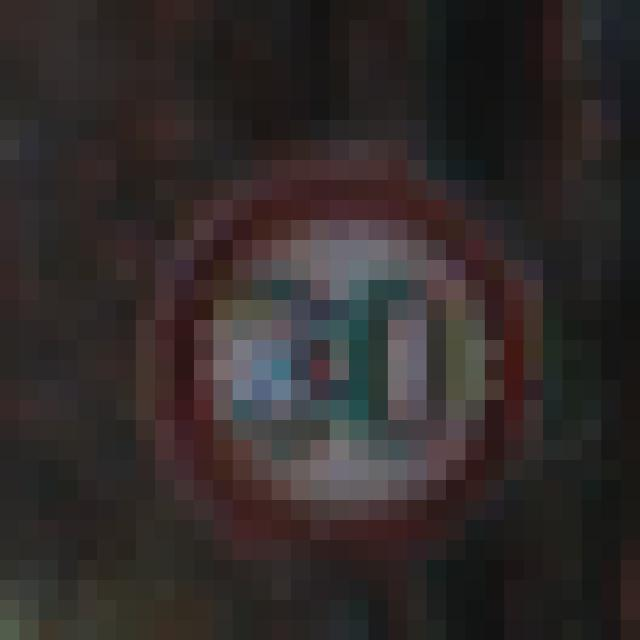Speed Limit -30-: (87, 110, 514, 530)
